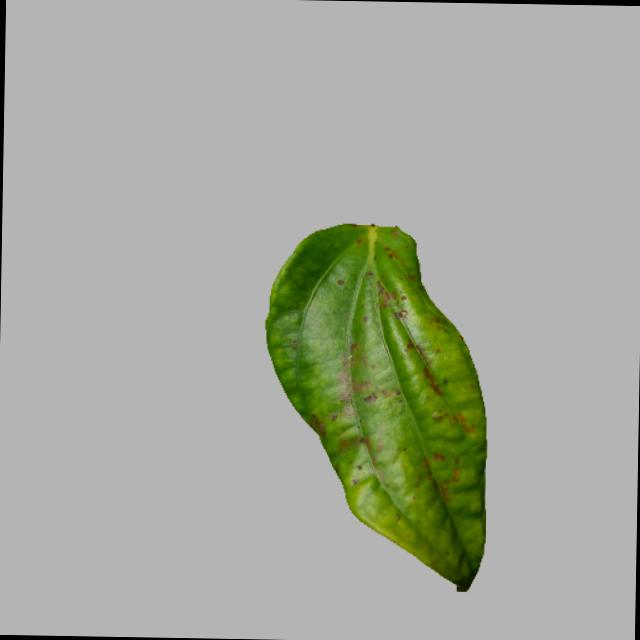yellow-mottle-virus: (248, 218, 506, 597)
